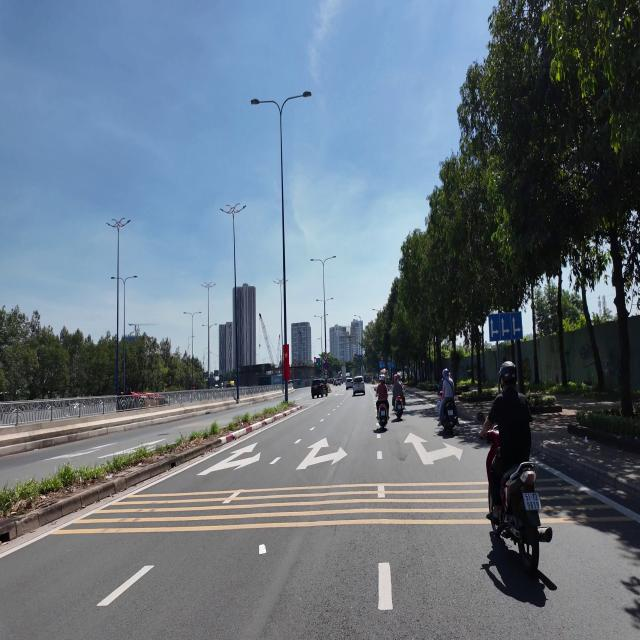car: (312, 379, 327, 398), (353, 376, 365, 395), (346, 377, 353, 390)
motorcycle: (492, 462, 552, 574), (441, 398, 457, 433), (378, 403, 388, 427), (394, 396, 403, 419)
